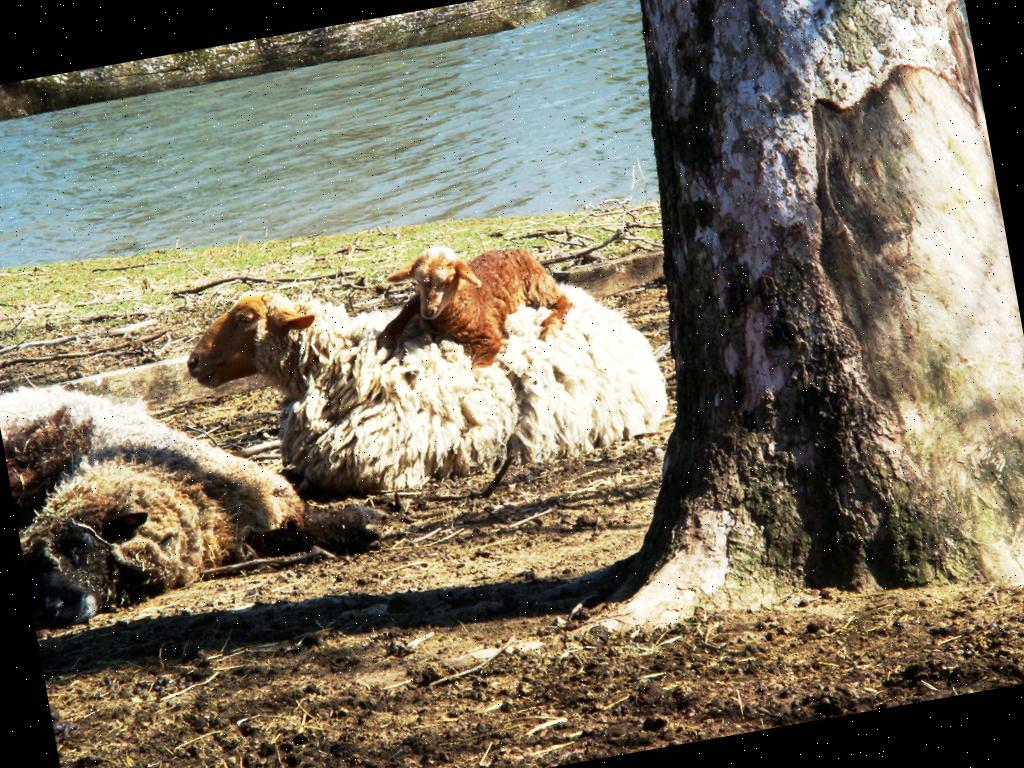Sheep: (170, 219, 678, 523), (0, 331, 391, 638), (356, 220, 579, 394)
